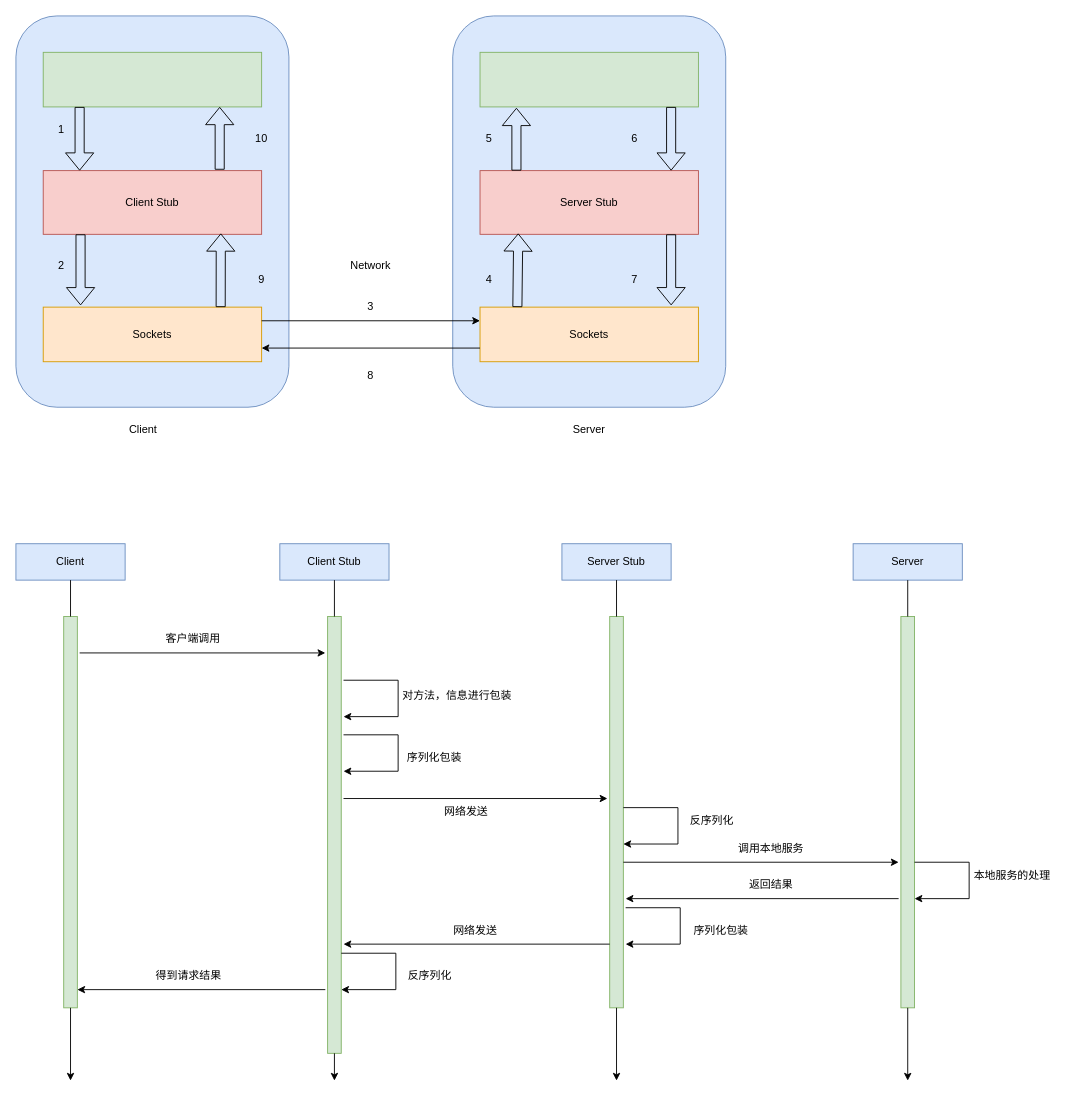
Image size: 1069x1104. Some labels were removed from this diagram. The box of each missing label's shape, as (x1, y1, x2, y2) in pixels:
Client Functions: (42, 51, 262, 107)
Sserver Functions: (479, 51, 698, 107)
